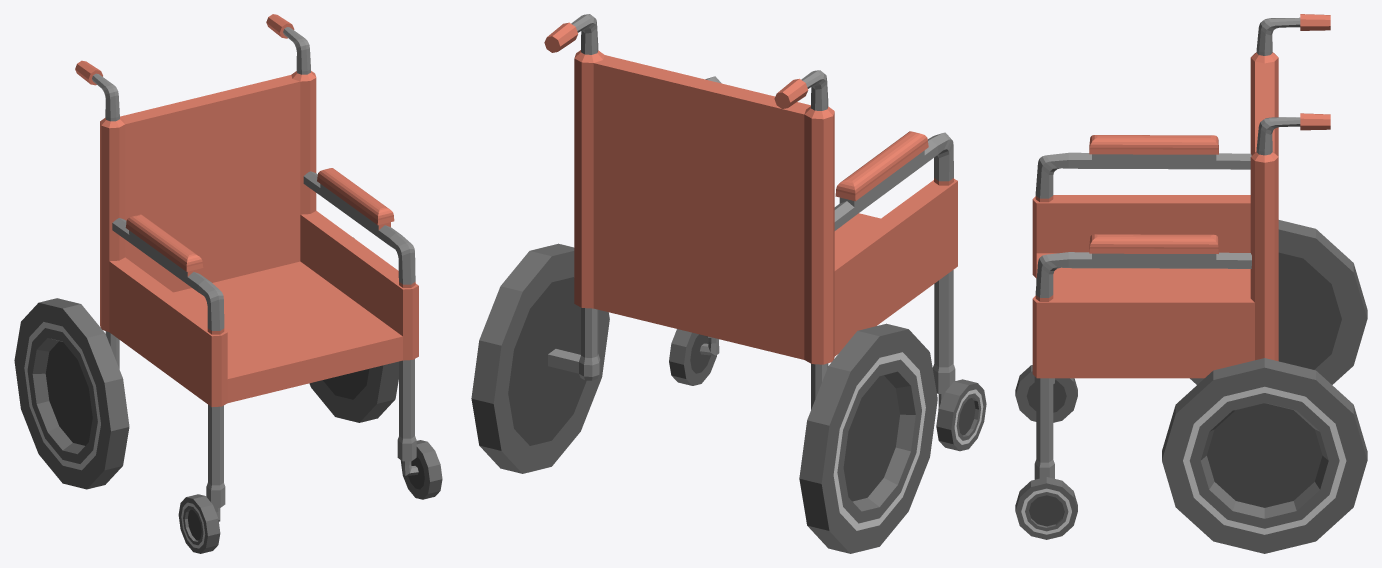
Rendered from wheelChair_modle (1).fbx.
The picture shows the model from 3 angles, left to right: view 1: azimuth 30°, elevation 25°; view 2: azimuth 150°, elevation 25°; view 3: azimuth 270°, elevation 25°; orthographic projection. The views are drawn at different scales.
Visible parts, largest first — view 1: wheelchair; view 2: wheelchair; view 3: wheelchair.
Boxes of the visible parts, <box> form: wheelchair: <box>14,14,442,553</box>; wheelchair: <box>471,14,986,553</box>; wheelchair: <box>1015,14,1367,553</box>.
Bounding box in the file's own units: 257 × 329 × 253.
